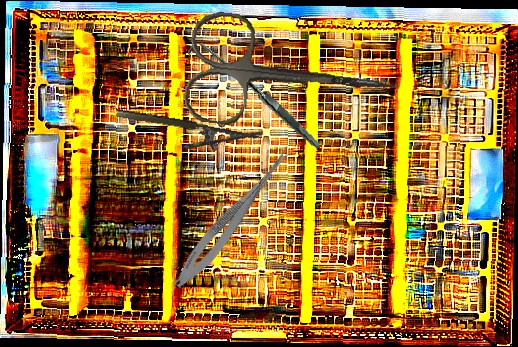Hook Surgical: (187, 26, 320, 167)
Iris Scissors: (181, 8, 406, 146)
Micro Scissor: (168, 138, 298, 295)
Needle Holder: (112, 107, 263, 162)
